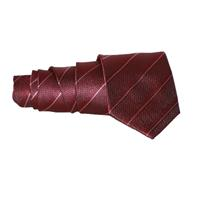tie: (12, 52, 180, 138)
